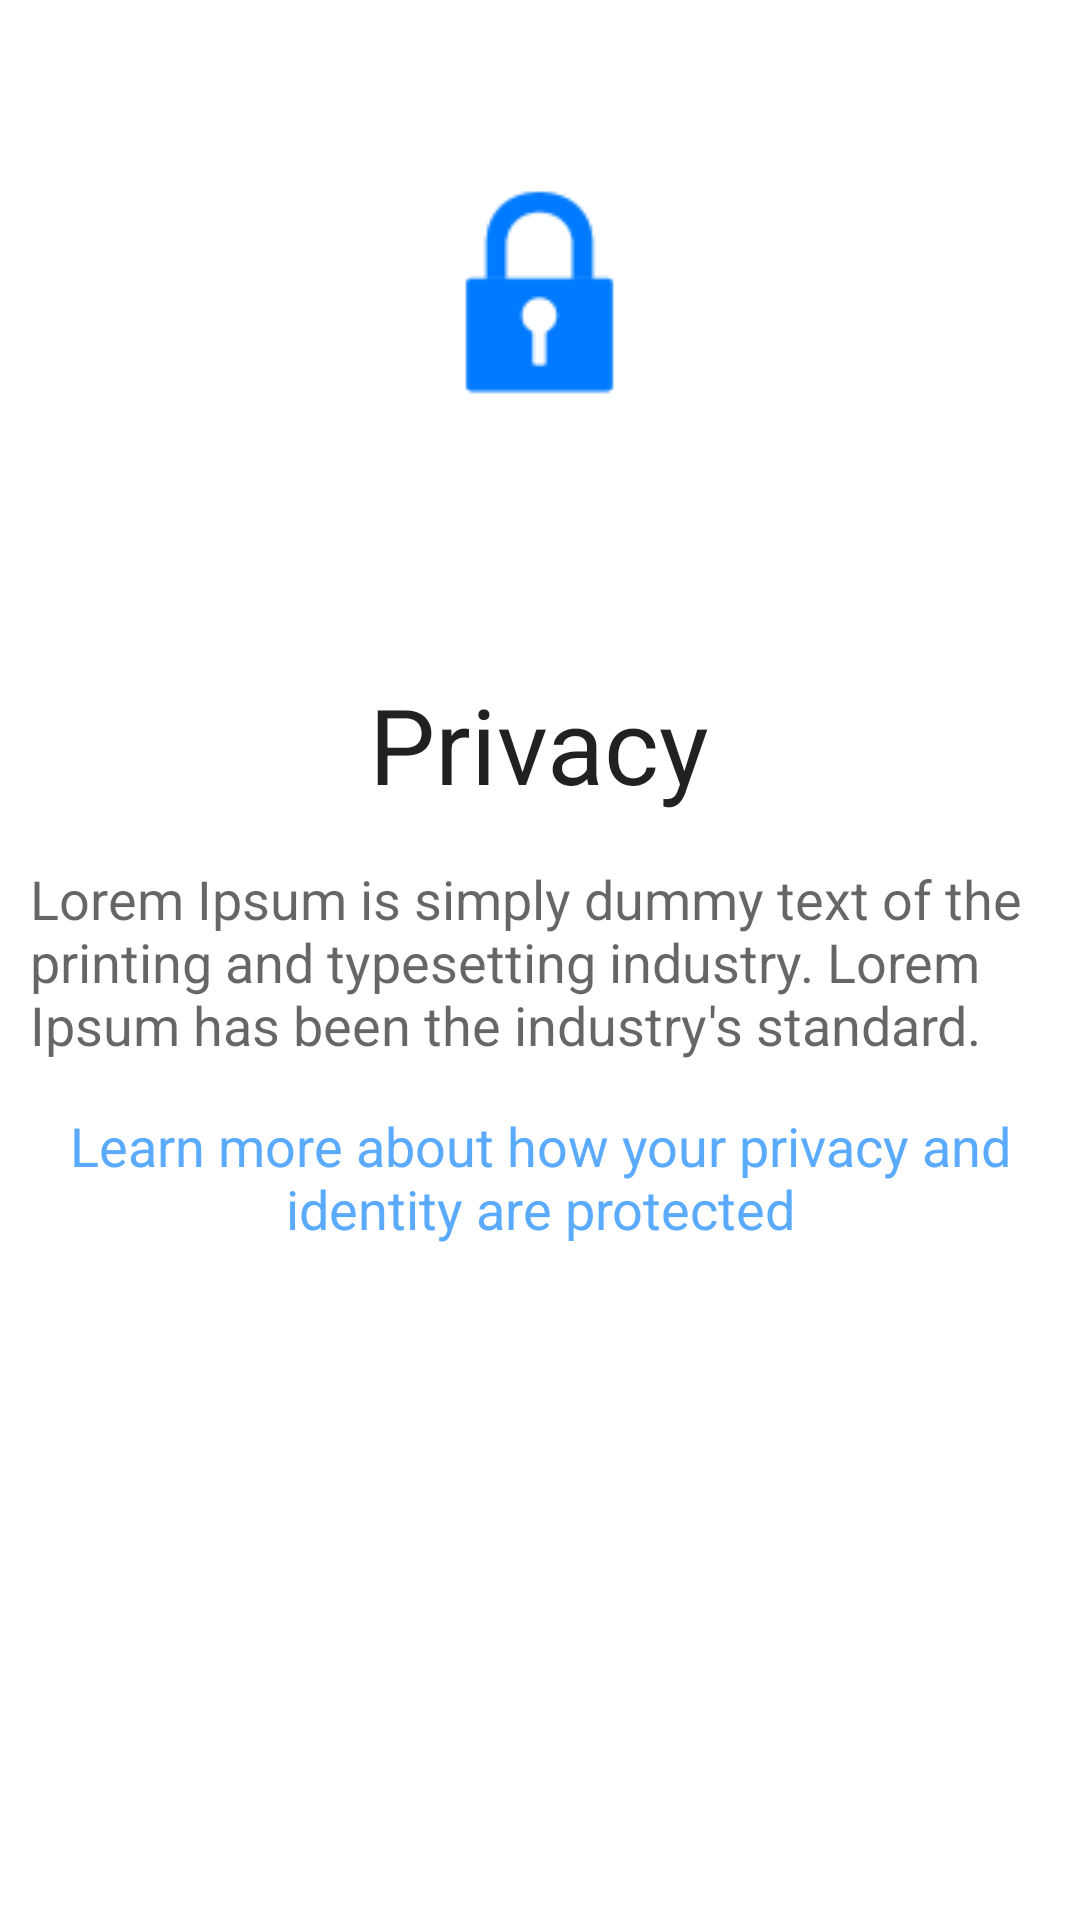

Point at icon controls on the screen. Image size 1080 x 1920, points as (x,y).
privacy: (539,292)
